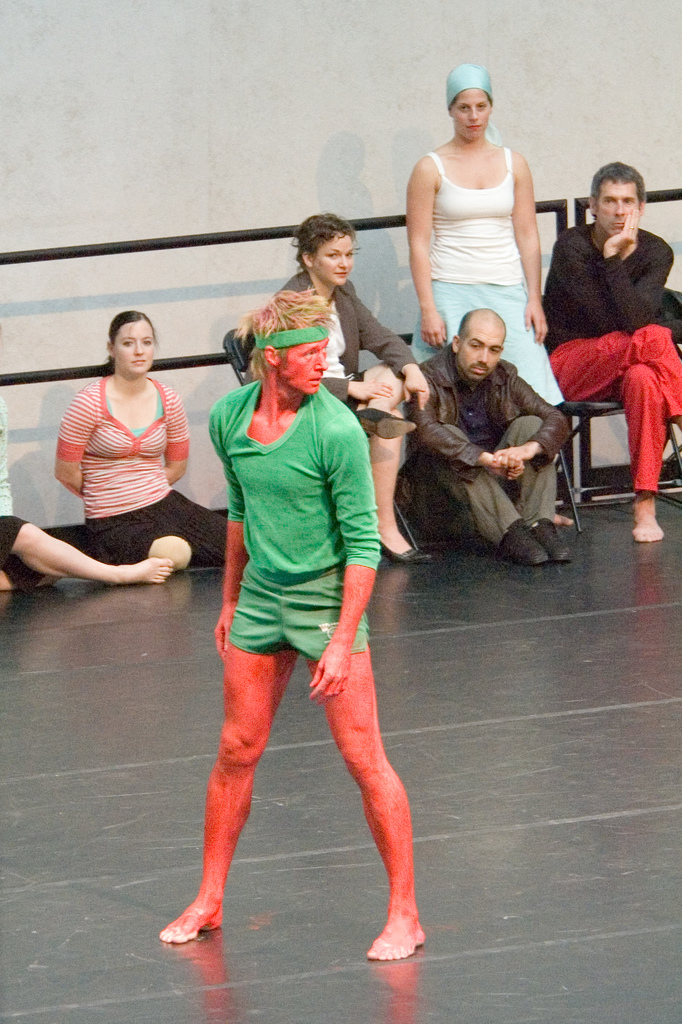Person: (0, 63, 682, 960)
